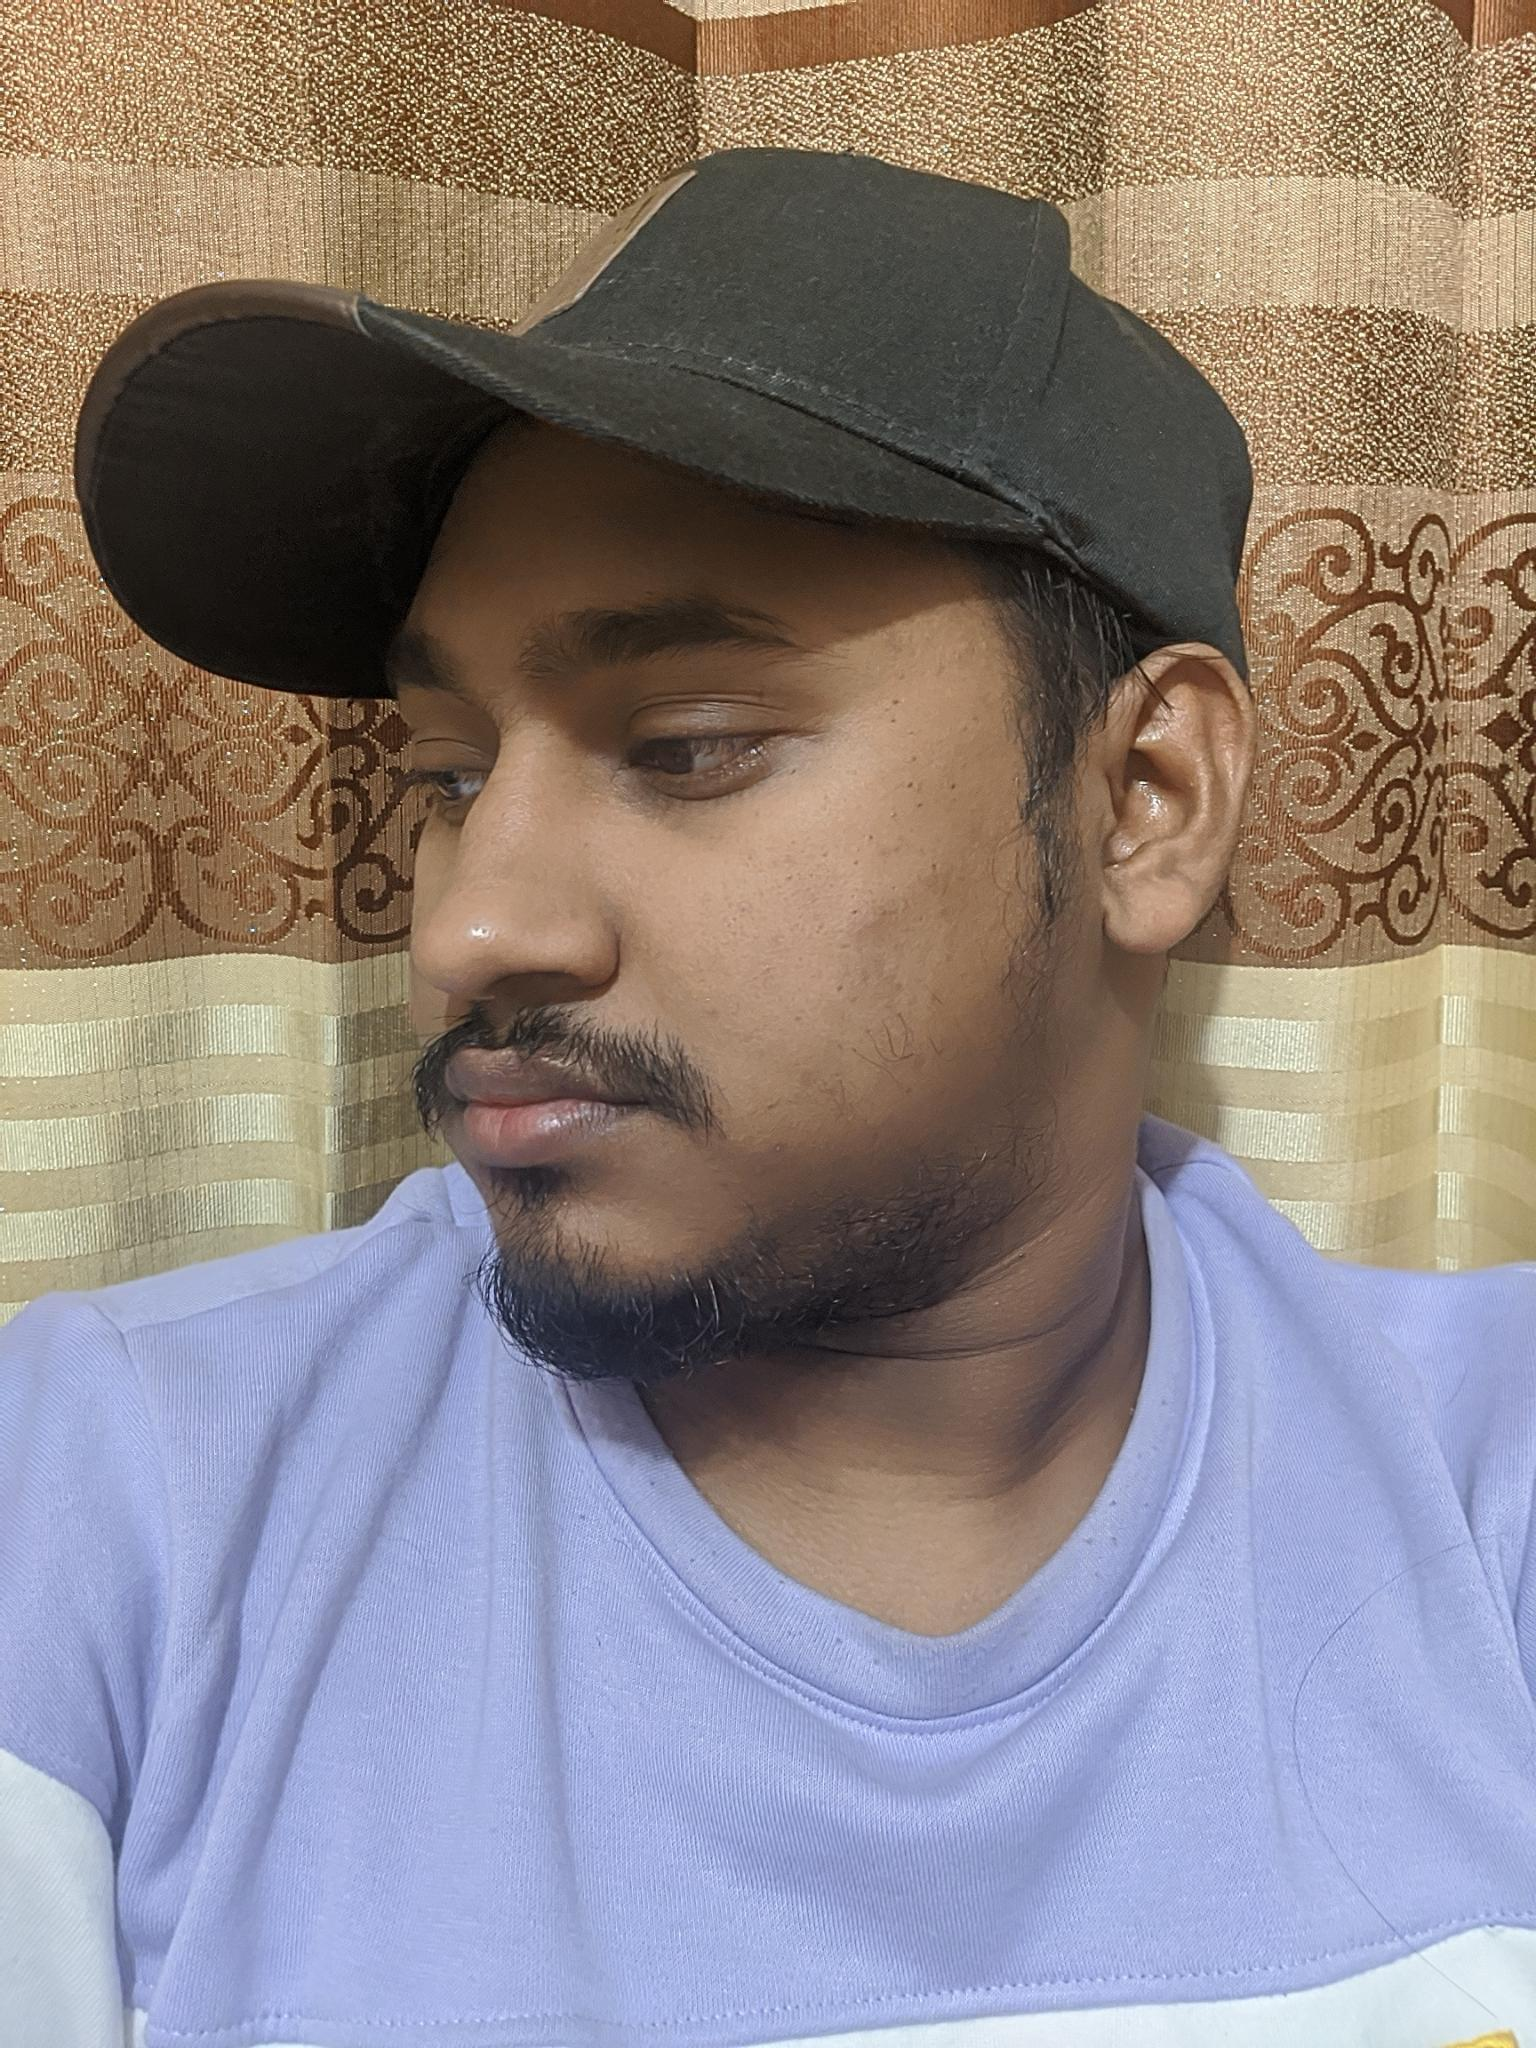Neutral: (316, 526, 966, 1364)
